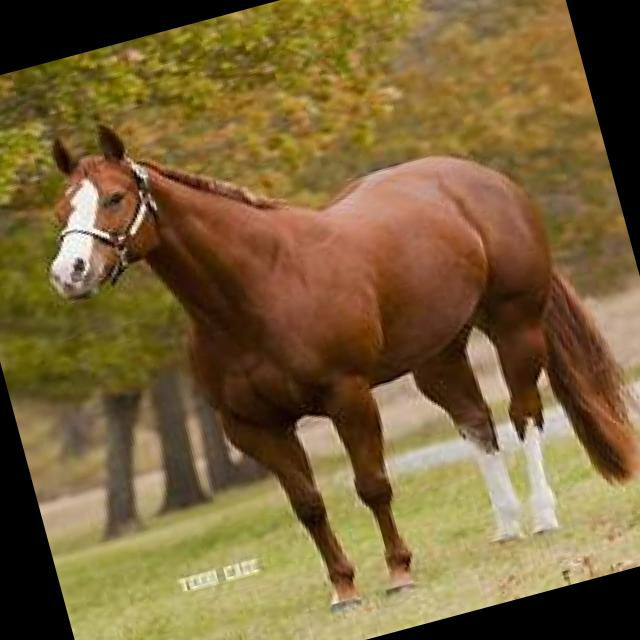animal: (19, 14, 640, 640)
